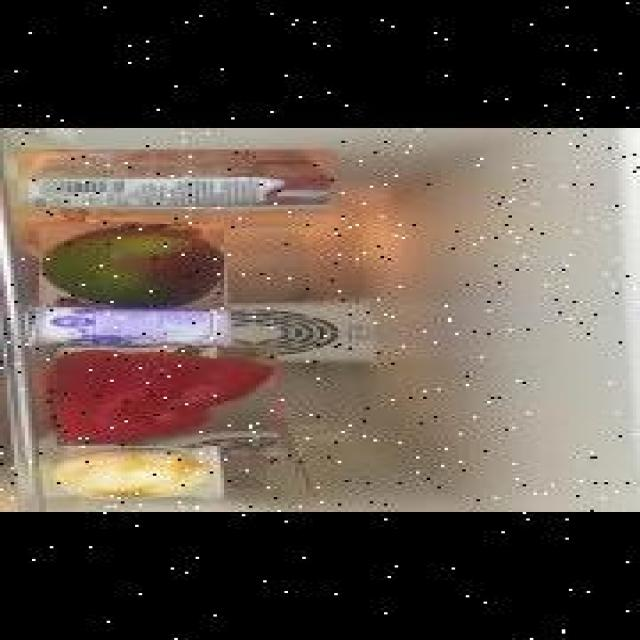bell_pepper: (53, 348, 274, 446)
heavy_cream: (14, 149, 331, 209)
mango: (36, 222, 220, 307)
yogurt: (25, 307, 227, 346)
